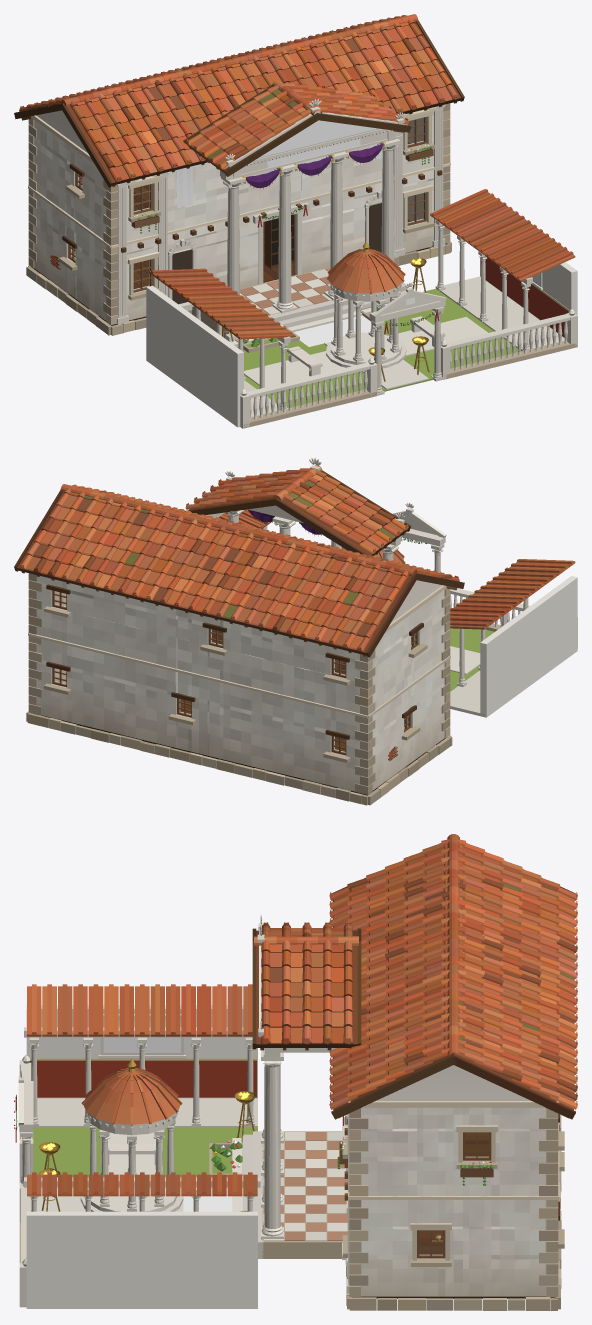
File: civ_academy.glb
The picture shows the model from 3 angles, top to bottom: view 1: azimuth 30°, elevation 25°; view 2: azimuth 150°, elevation 25°; view 3: azimuth 270°, elevation 25°; orthographic projection. The views are drawn at different scales.
Parts seen in each view (by area): view 1: House, Walls, Rooms; view 2: House, Walls, Rooms; view 3: House, Walls, Rooms.
Boxes of the visible parts, <box> form: House: <box>14,14,577,428</box>; Walls: <box>34,110,445,320</box>; Rooms: <box>74,117,422,288</box>; House: <box>14,458,577,805</box>; Walls: <box>32,576,444,791</box>; Rooms: <box>55,591,411,751</box>; House: <box>14,834,577,1310</box>; Walls: <box>351,1065,556,1296</box>; Rooms: <box>419,1132,488,1254</box>.
Size of the model in its own units: 10.11 by 6 by 10.96.
Materials: 11 (11 with a texture image).
